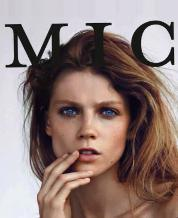face: (57, 99, 119, 162)
